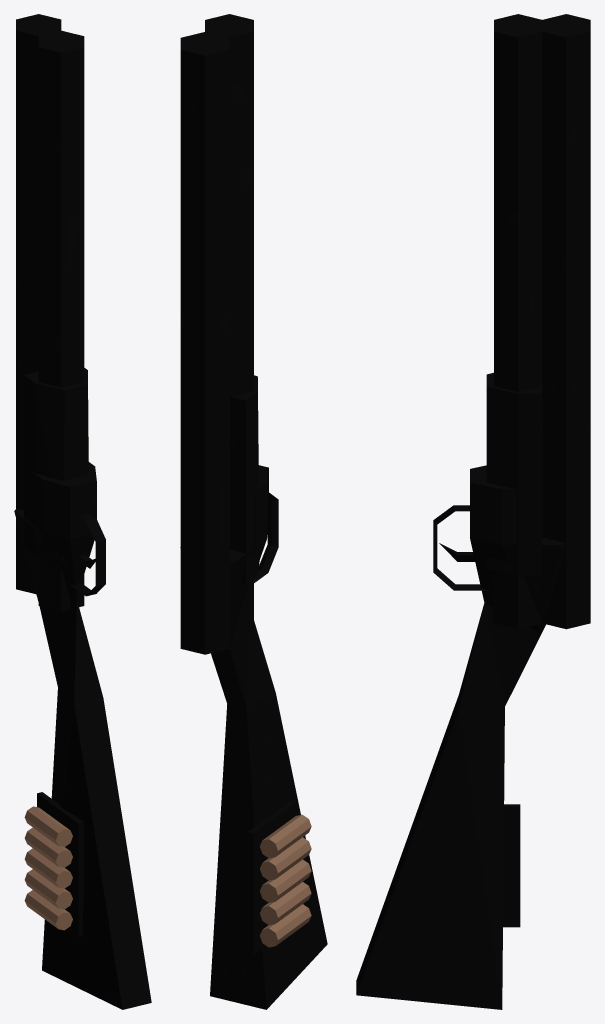
File: Marlin336__ShellHolder_Butt.fbx
The picture shows the model from 3 angles, left to right: view 1: azimuth 30°, elevation 25°; view 2: azimuth 150°, elevation 25°; view 3: azimuth 270°, elevation 25°; orthographic projection. The views are drawn at different scales.
Parts seen in each view (by area): view 1: asset_Marlin336.001; view 2: asset_Marlin336.001; view 3: asset_Marlin336.001.
Boxes of the visible parts, <box> form: asset_Marlin336.001: <box>14,14,151,1009</box>; asset_Marlin336.001: <box>180,14,327,1009</box>; asset_Marlin336.001: <box>356,14,590,1009</box>.
Size of the model in its own units: 0.0449 by 0.582 by 0.1272.
